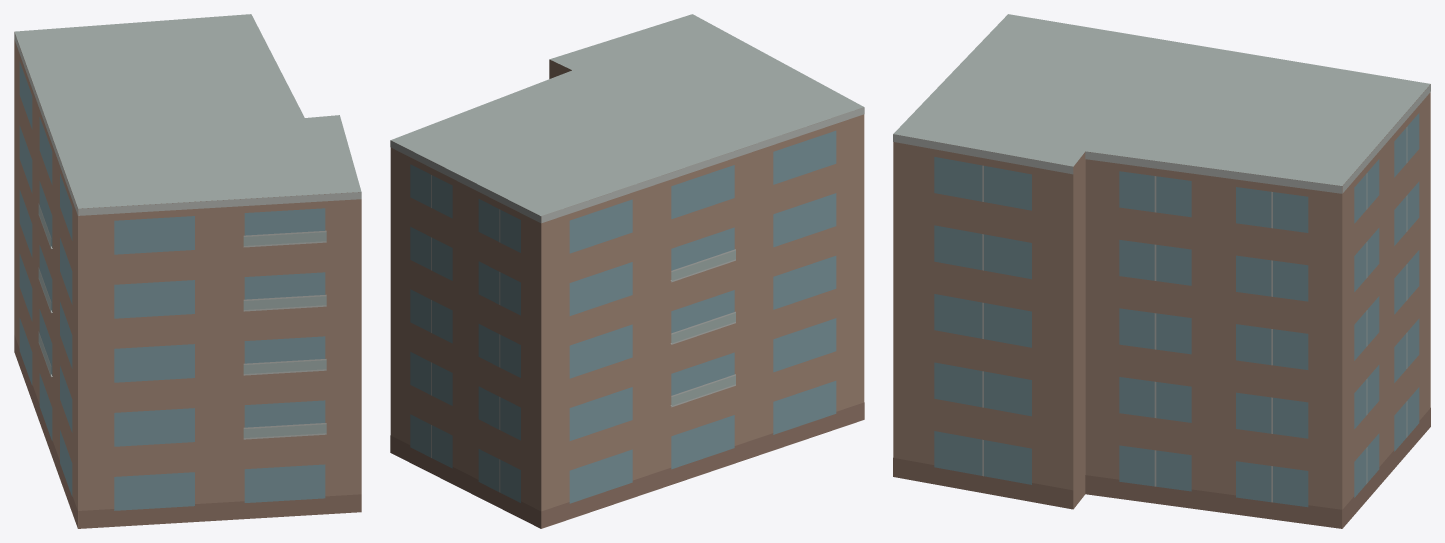
File: survey-upis-32886862.glb
The picture shows the model from 3 angles, left to right: view 1: azimuth 30°, elevation 25°; view 2: azimuth 150°, elevation 25°; view 3: azimuth 270°, elevation 25°; orthographic projection. The views are drawn at different scales.
Visible parts, largest first — view 1: survey-upis-32886862.tmp; view 2: survey-upis-32886862.tmp; view 3: survey-upis-32886862.tmp.
Part boxes in pixels (<box>): survey-upis-32886862.tmp: <box>14,14,361,528</box>; survey-upis-32886862.tmp: <box>390,14,864,528</box>; survey-upis-32886862.tmp: <box>893,14,1430,528</box>.
Bounding box in the file's own units: 11.58 × 10.75 × 15.29.
